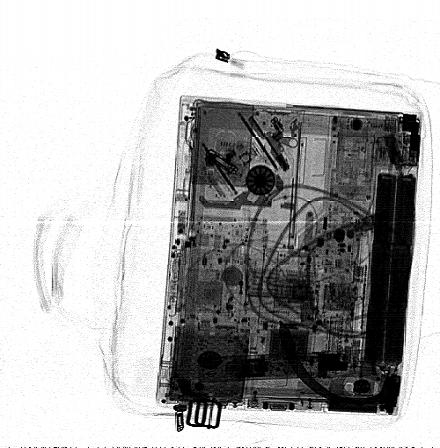Baton: (199, 350, 380, 381)
